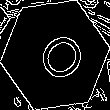O_SW: (24, 22, 86, 88)
